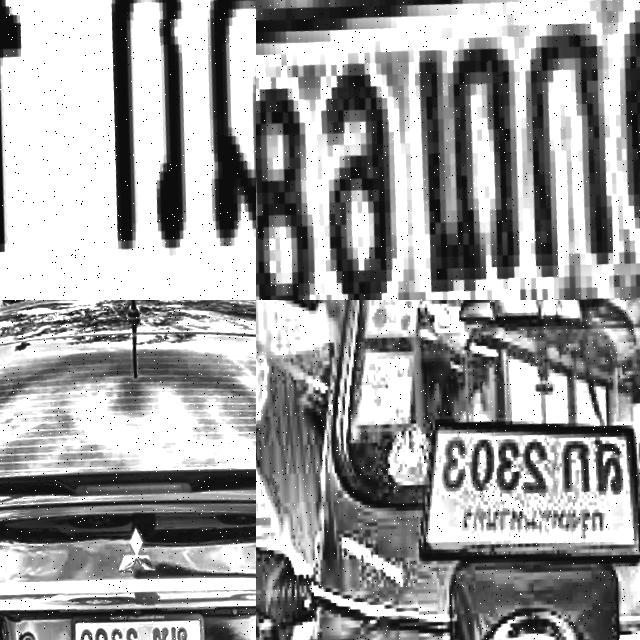license-plate: (256, 0, 640, 300), (0, 0, 256, 300), (397, 376, 640, 587), (67, 588, 222, 640)
